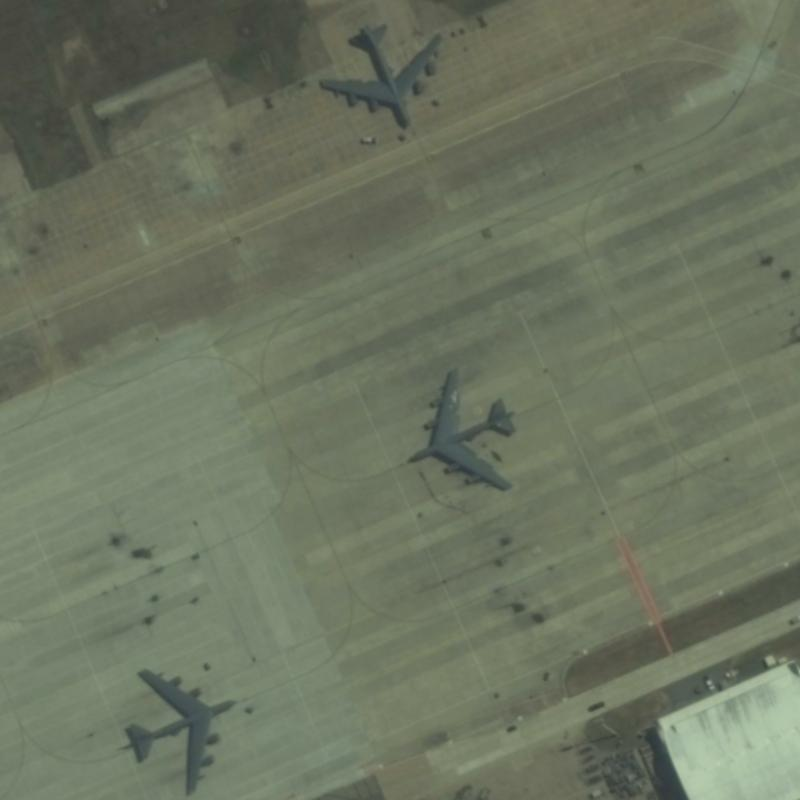A8: (396, 356, 521, 495), (119, 662, 242, 799), (314, 11, 448, 135)
